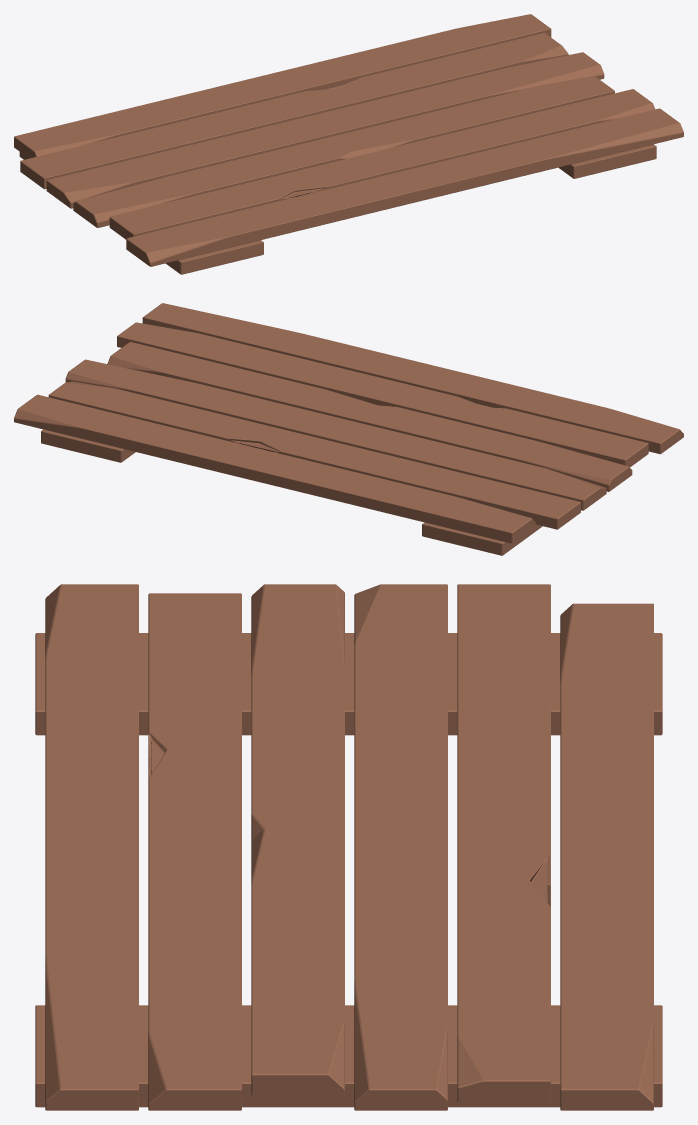
The model's file is Wooden_bridge.glb.
The picture shows the model from 3 angles, top to bottom: view 1: azimuth 30°, elevation 25°; view 2: azimuth 150°, elevation 25°; view 3: azimuth 270°, elevation 25°; orthographic projection. The views are drawn at different scales.
Visible parts, largest first — view 1: Wooden_bridge; view 2: Wooden_bridge; view 3: Wooden_bridge.
Part boxes in pixels (x1,y1,x2,y2): Wooden_bridge: [14, 14, 683, 274]; Wooden_bridge: [14, 303, 683, 555]; Wooden_bridge: [35, 584, 662, 1110].
Size of the model in its own units: 22.88 by 0.9922 by 11.99.
